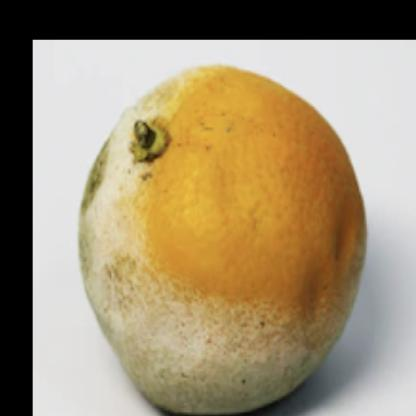rotten: (79, 62, 370, 416)
